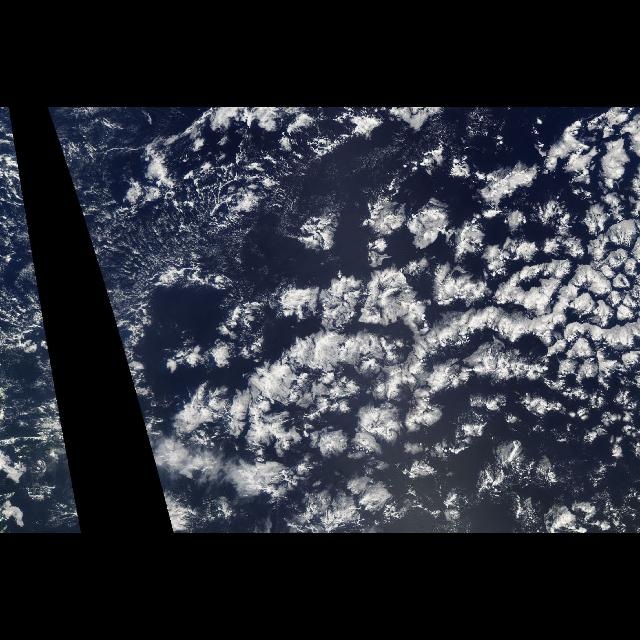Flower: (246, 190, 497, 352)
Gravel: (115, 146, 285, 300)
